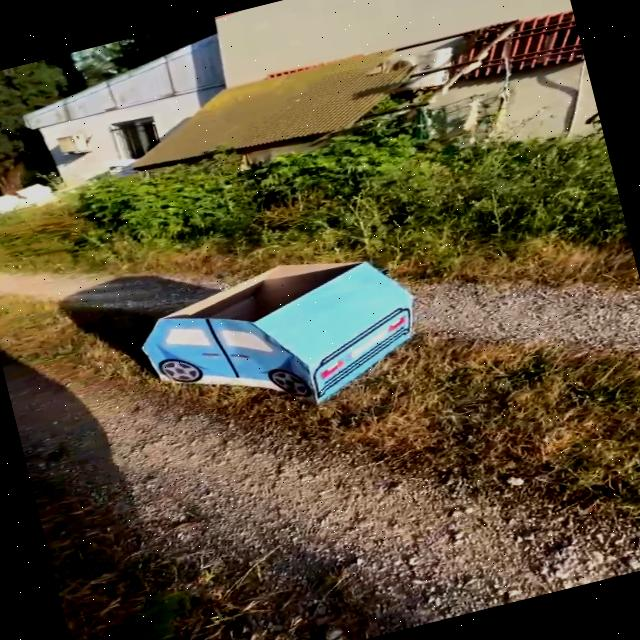blue_car: (77, 210, 476, 470)
